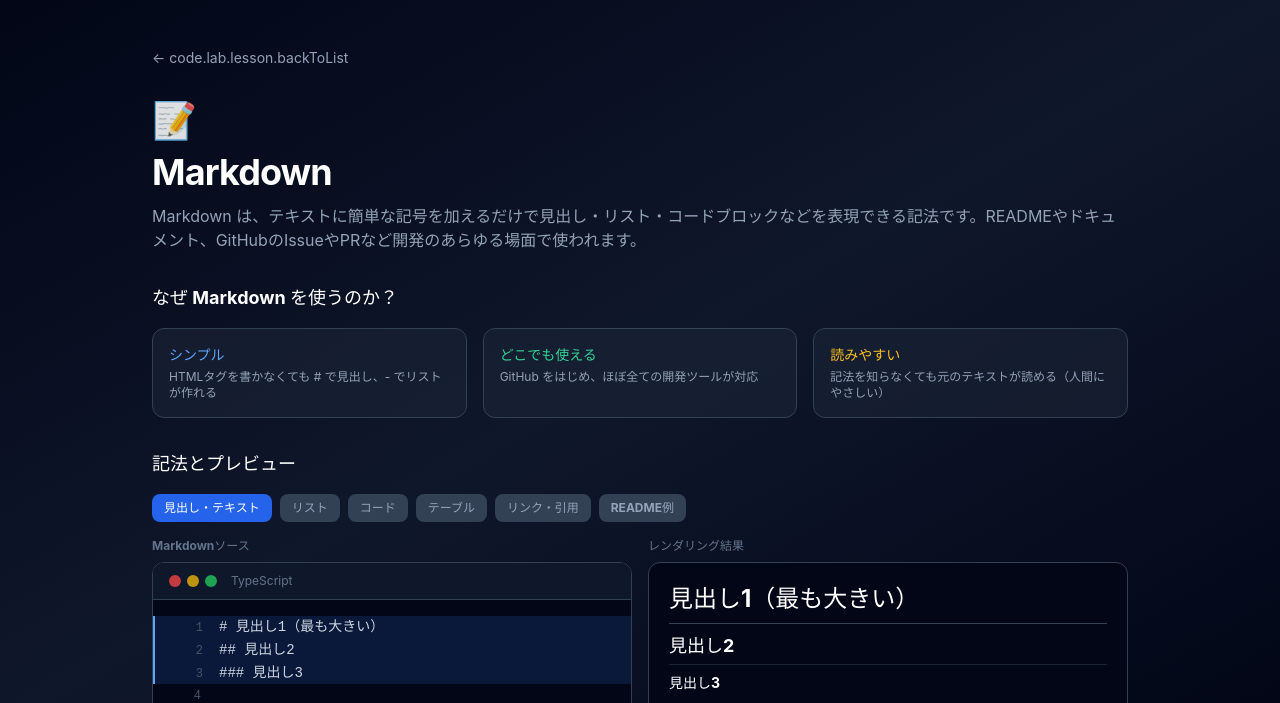
Test: MarkdownLesson interactions › should switch to Tables section
What coordinates should you click on to do the following:
click the button "テーブル"
I would click on:
 (451, 508)
Its box is [416,494,487,522].
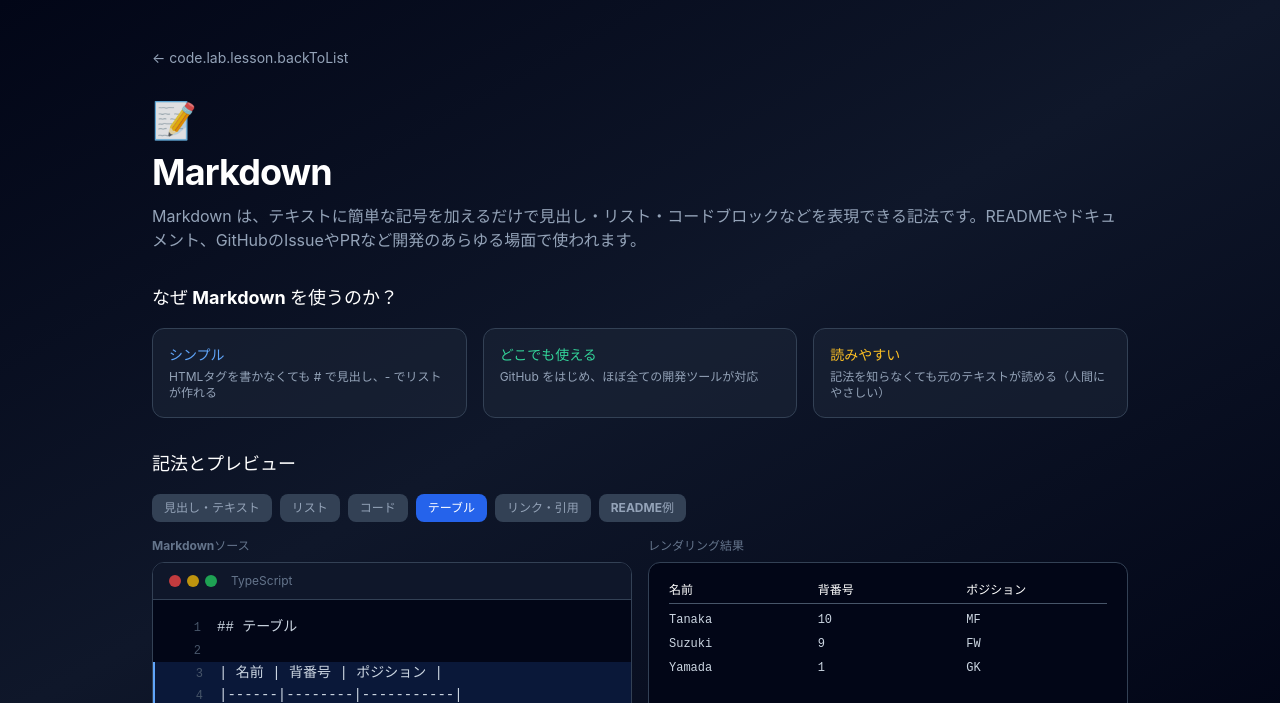
Check: the text "Tanaka" is shown, box [669,613,712,627]
